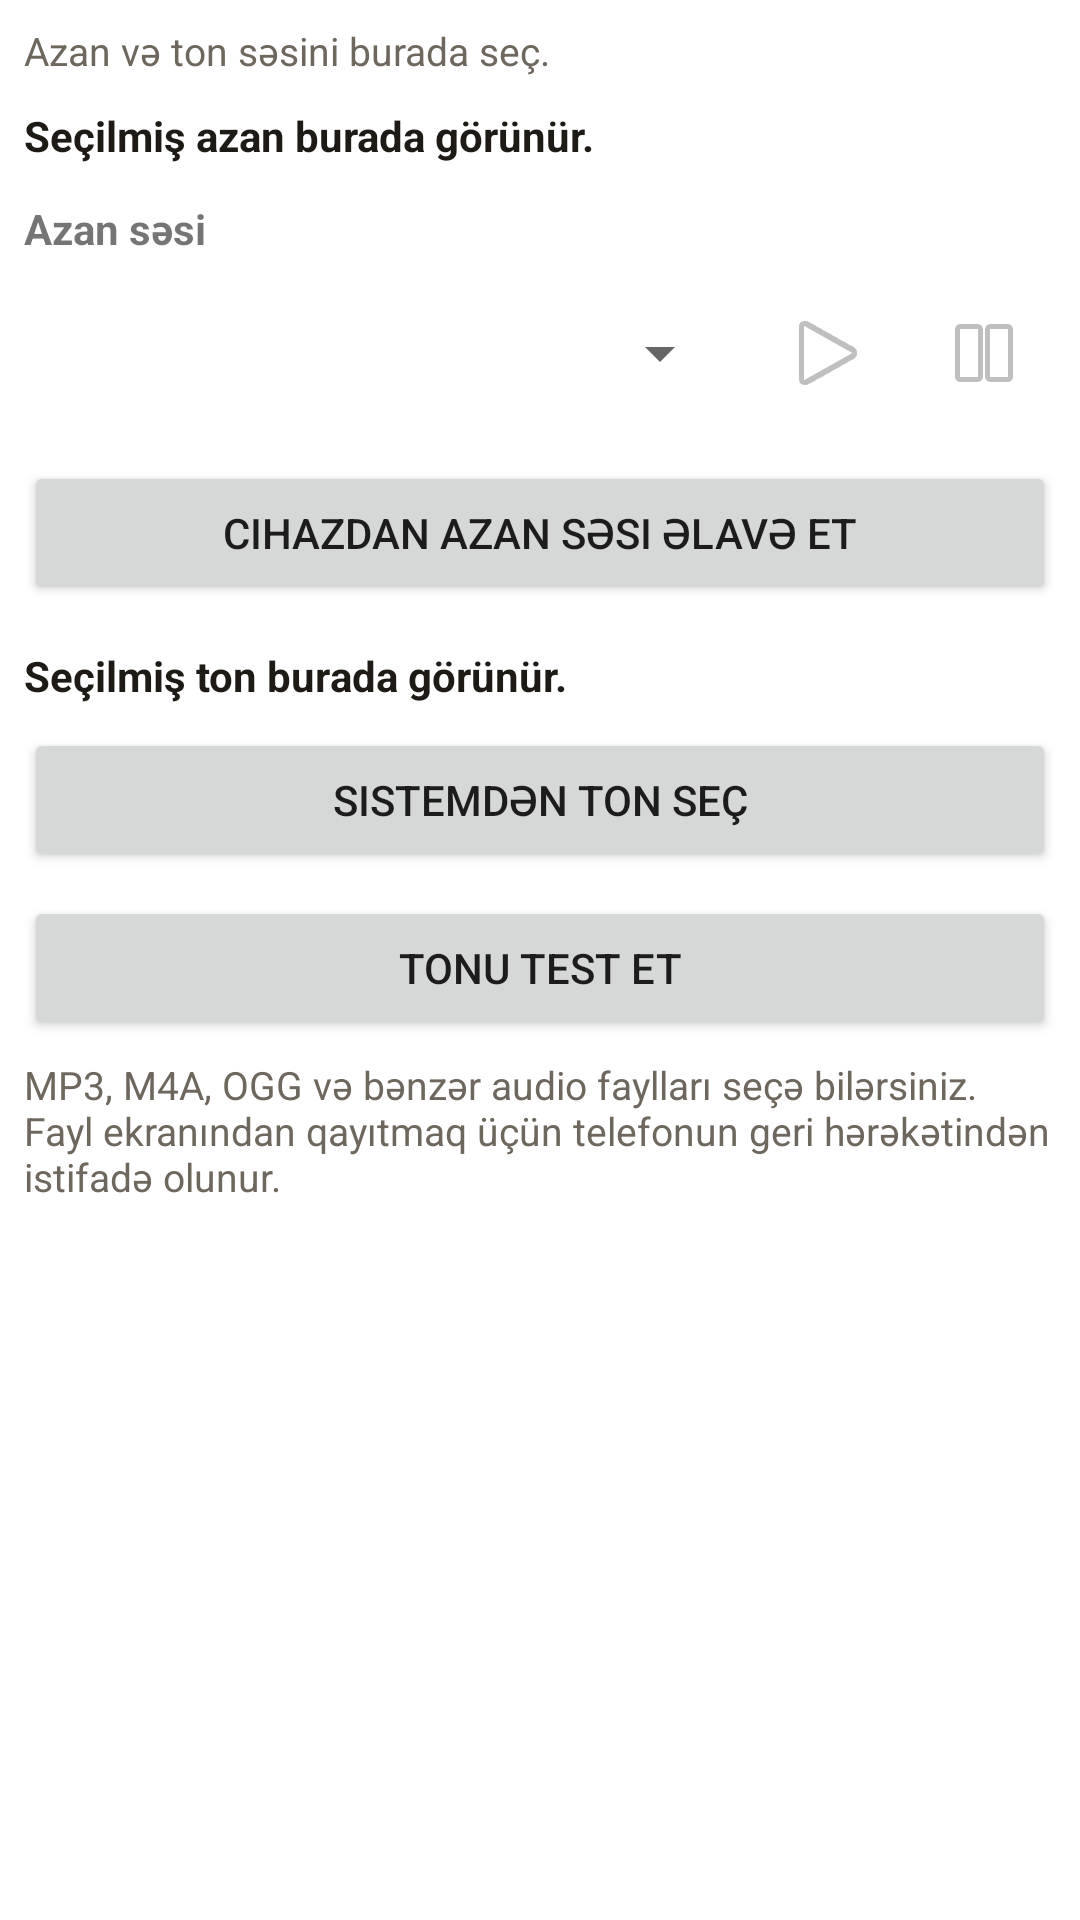

Where to tap for icons on this 1080 × 1920 app screen, as point (x, y):
Azanı test et: point (828, 353)
Səsi dayandır: point (984, 353)
